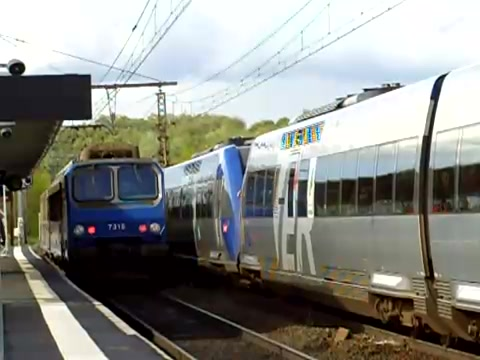train: (38, 143, 166, 266)
